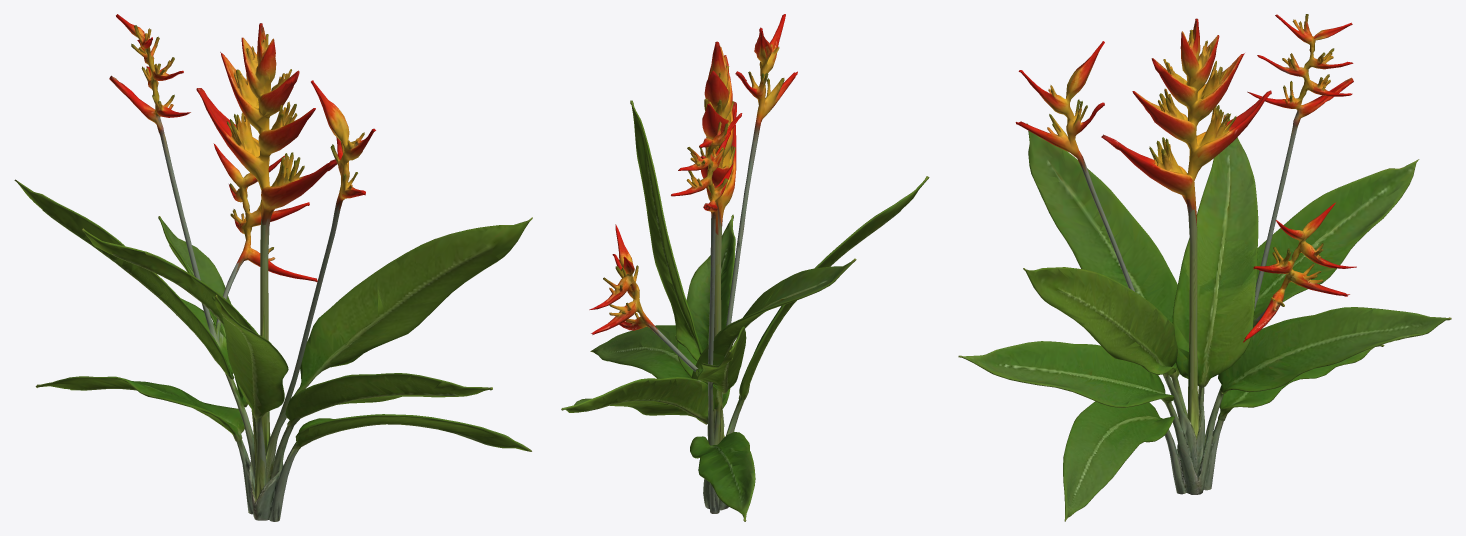
File: planta_hospedera_caligo_tipo_2.fbx
3 renders of one model, left to right at view 1: azimuth 30°, elevation 25°; view 2: azimuth 150°, elevation 25°; view 3: azimuth 270°, elevation 25°, orthographic. The views are drawn at different scales.
Parts seen in each view (by area): view 1: tripo_node_03cf8c47; view 2: tripo_node_03cf8c47; view 3: tripo_node_03cf8c47.
Part boxes in pixels (x1,y1,x2,y2): tripo_node_03cf8c47: [14, 14, 532, 521]; tripo_node_03cf8c47: [561, 14, 929, 521]; tripo_node_03cf8c47: [958, 14, 1451, 521].
Bounding box in the file's own units: 7.92 × 10.17 × 9.67.
Materials: 1 (1 with a texture image).
